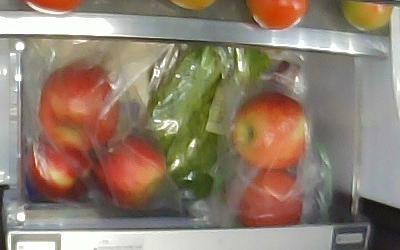apple_vinyl: (39, 59, 119, 150), (232, 92, 305, 168), (94, 135, 166, 210), (29, 136, 94, 200), (239, 168, 302, 228)
